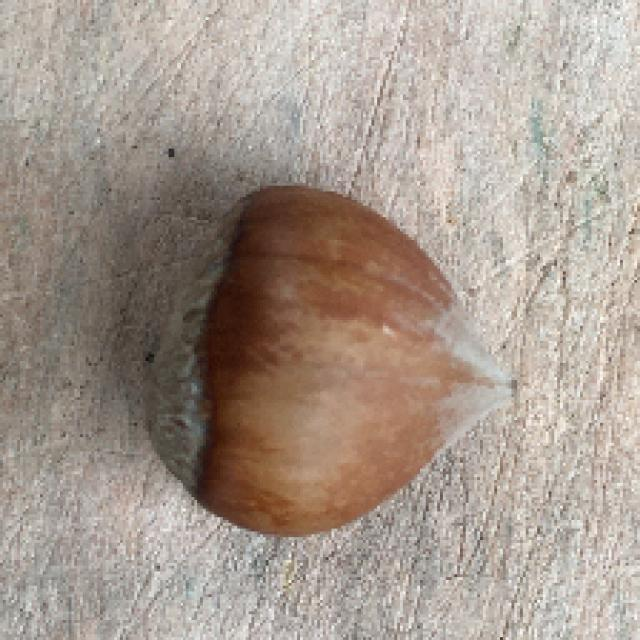qualityHazelnut: (129, 182, 525, 540)
